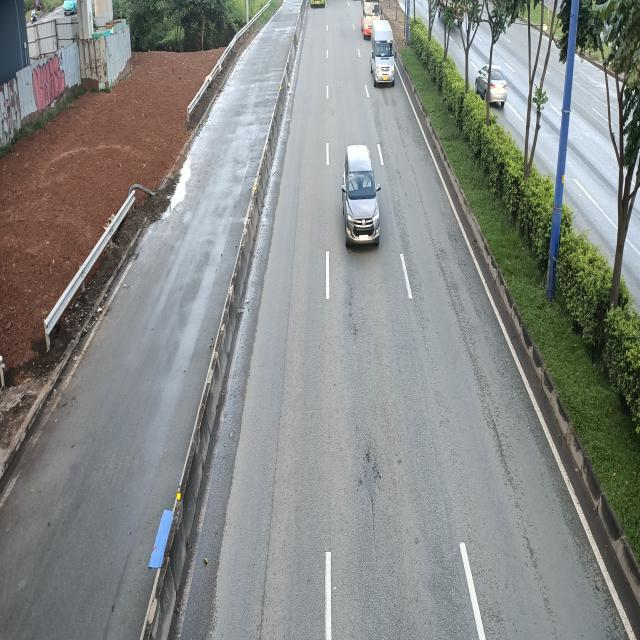car: (341, 147, 380, 251)
coach: (360, 0, 381, 38)
van: (371, 19, 396, 86)
